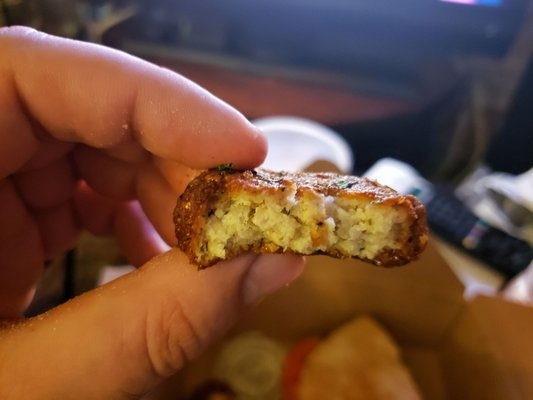sandwich: (360, 156, 533, 287)
